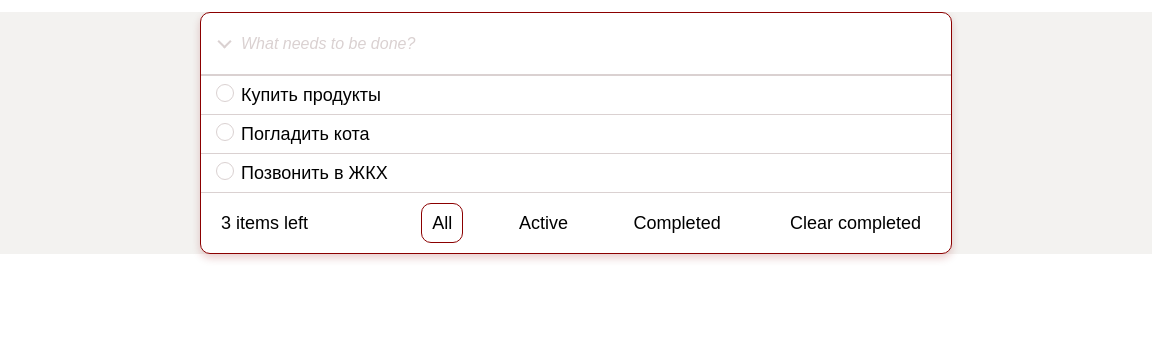
filter completed task
The image size is (1152, 356).
Type "Задача 1" into the field with placeholder "What needs to be done?" at [594, 44], box x1=236 y1=13 x2=951 y2=74
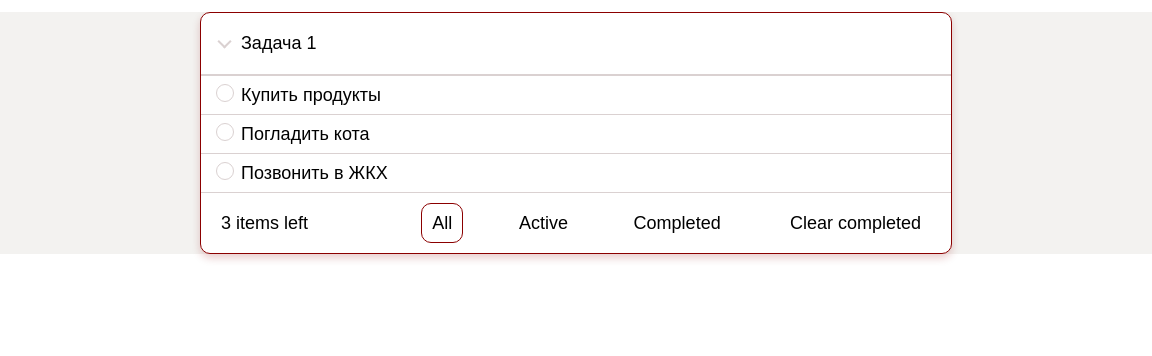
Submit the form with placeholder "what needs to be done", box x1=201 y1=13 x2=951 y2=193
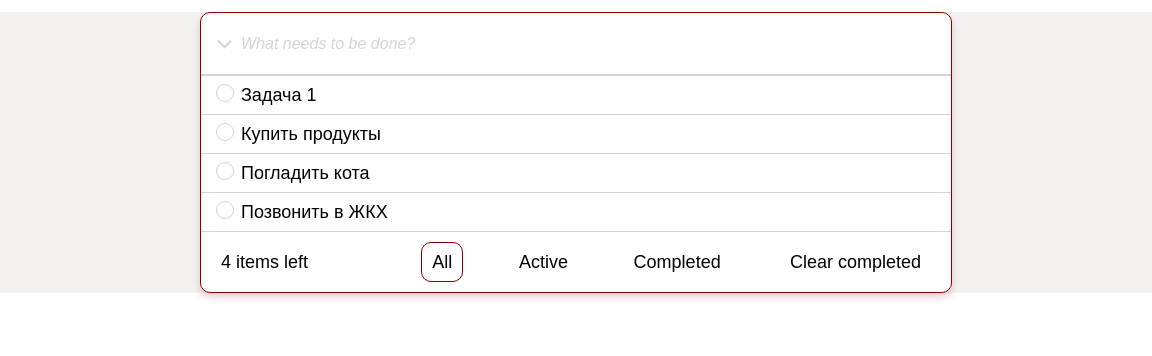
Type "Задача 2" into the field with placeholder "What needs to be done?" at [594, 44], box x1=236 y1=13 x2=951 y2=74
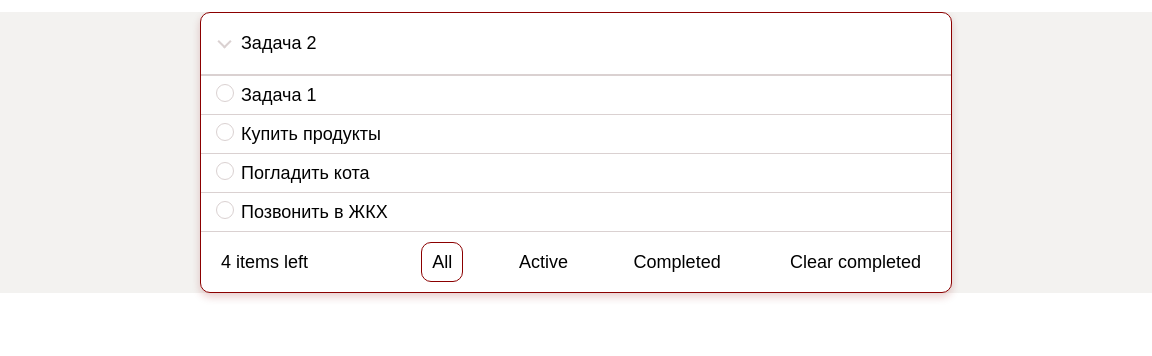
Submit the form with placeholder "what needs to be done", box x1=201 y1=13 x2=951 y2=232
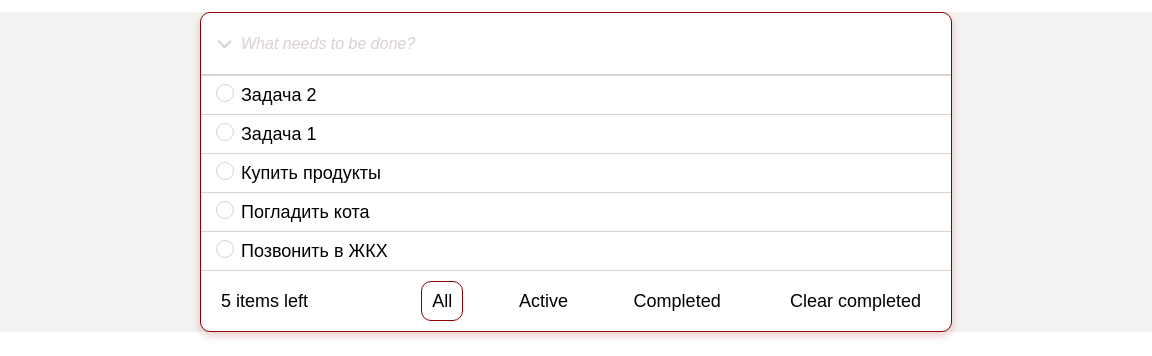
Click the list item "Задача 1" at [576, 134], box x1=201 y1=115 x2=951 y2=154
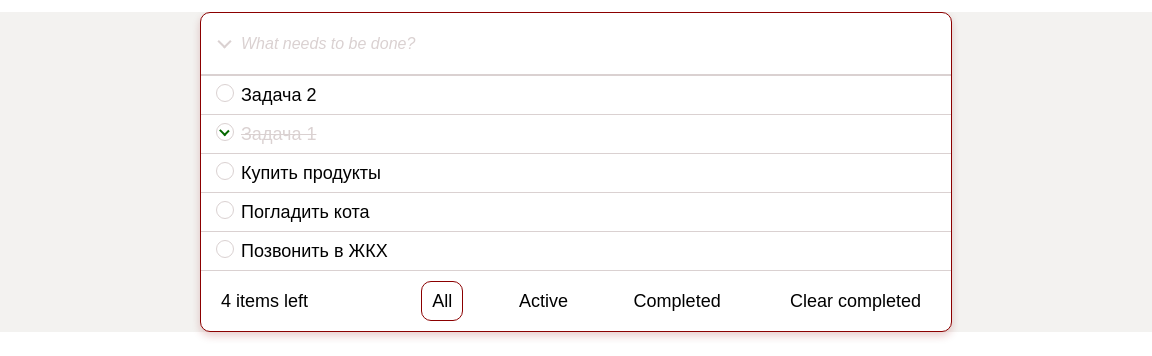
Click the button "Completed" at [677, 301], box x1=624 y1=282 x2=731 y2=320
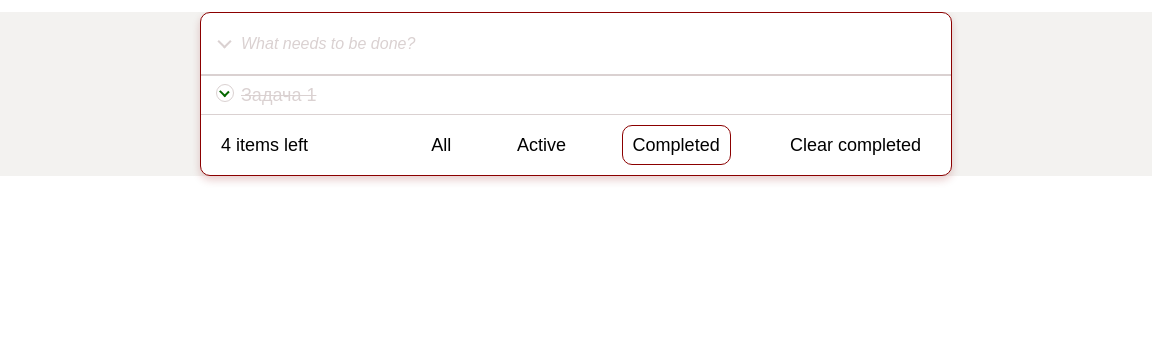
Now the list item "Задача 1" is shown, box x1=201 y1=76 x2=951 y2=115
Now the list item "Задача 2" is gone
